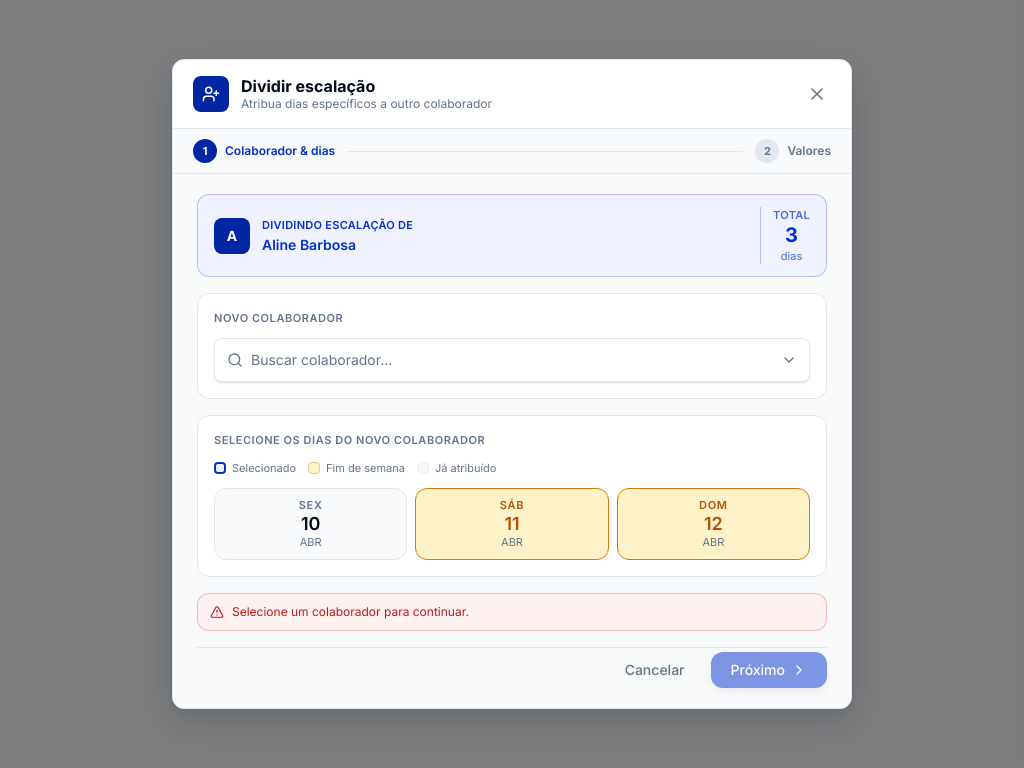
Test: Dividir escalação — passo 2 do novo colaborador › novo freela: diária do titular em todos os dias e alimentação zerada com o motivo
Click the button "Buscar colaborador…". click: click(322, 360)
box: [214,338,810,382]
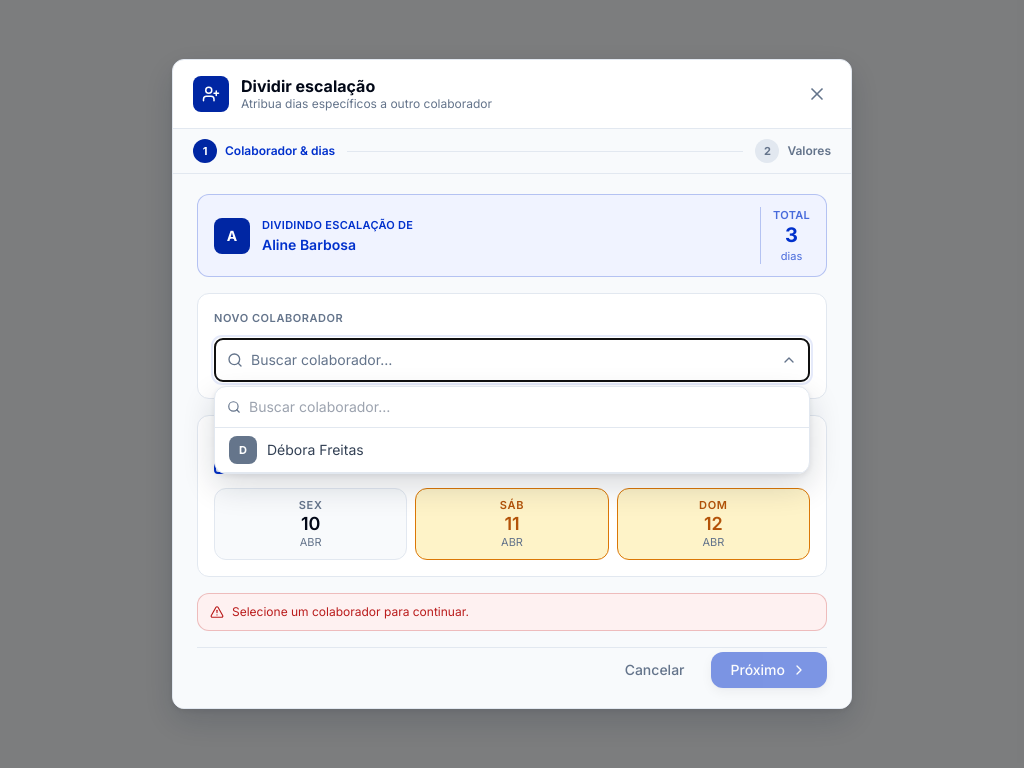
Press the mouse on the button "D Débora Freitas" at (315, 450), box [215,428,809,473]
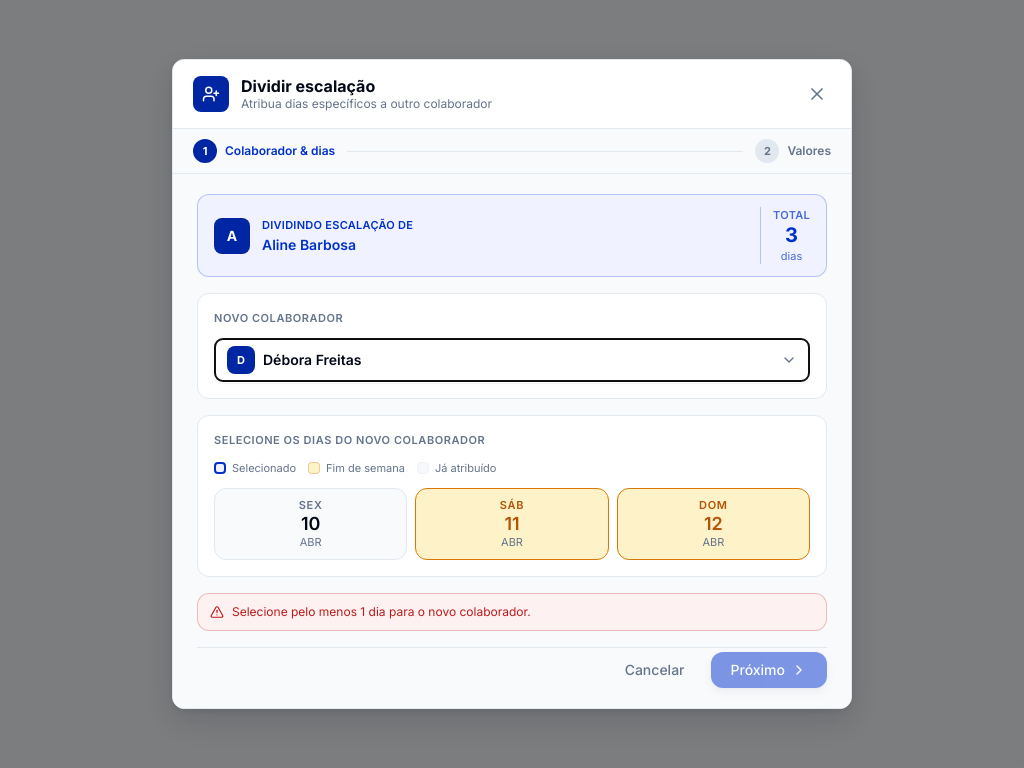
Click the button with aria-label "Sex 10/Abr". click: click(311, 524)
box: [214,488,407,560]
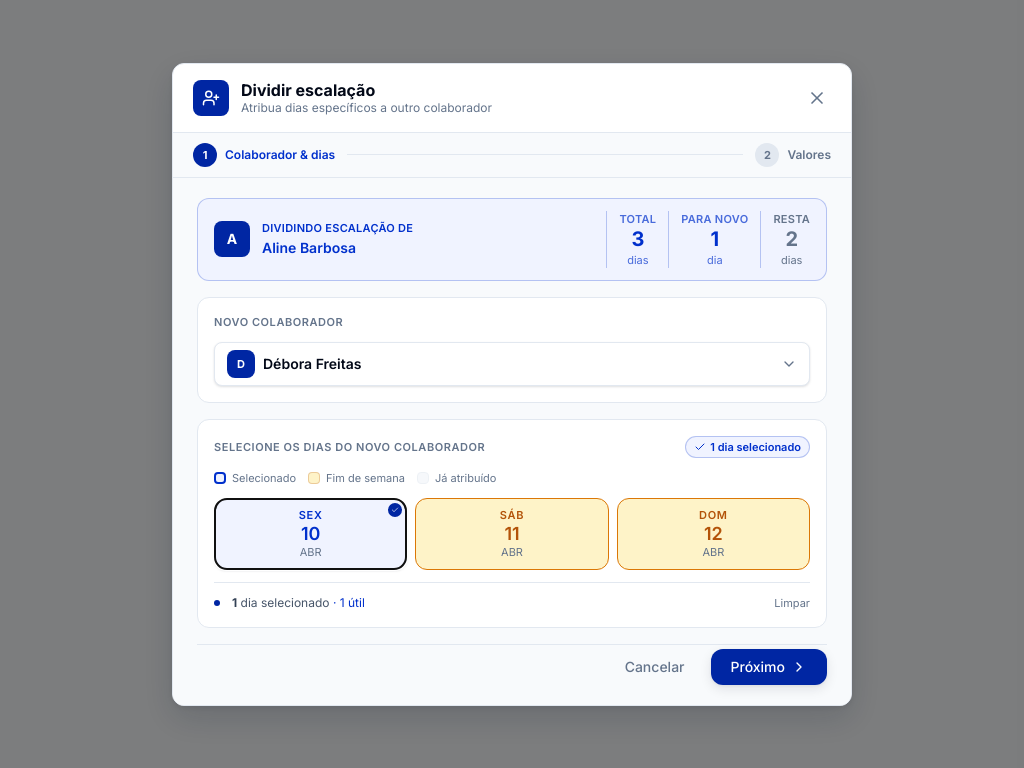
Click the button with aria-label "Sáb 11/Abr". click: click(512, 534)
box: [415,498,609,570]
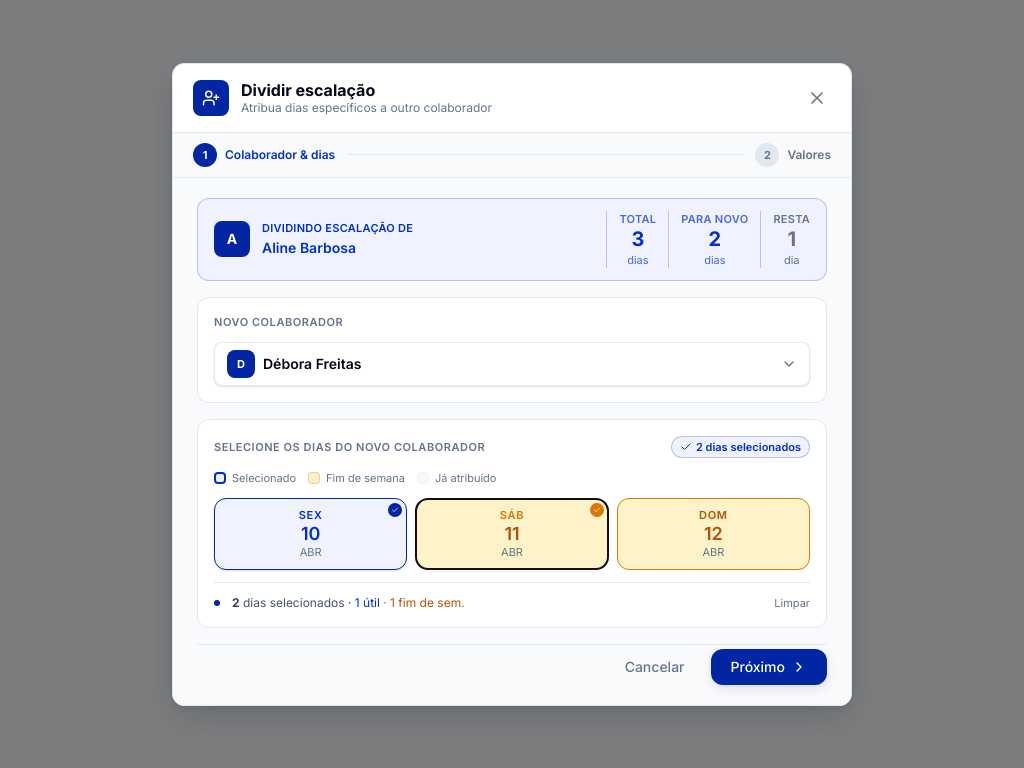
Click the button "Próximo". click: click(769, 666)
box: [710,648,827,684]
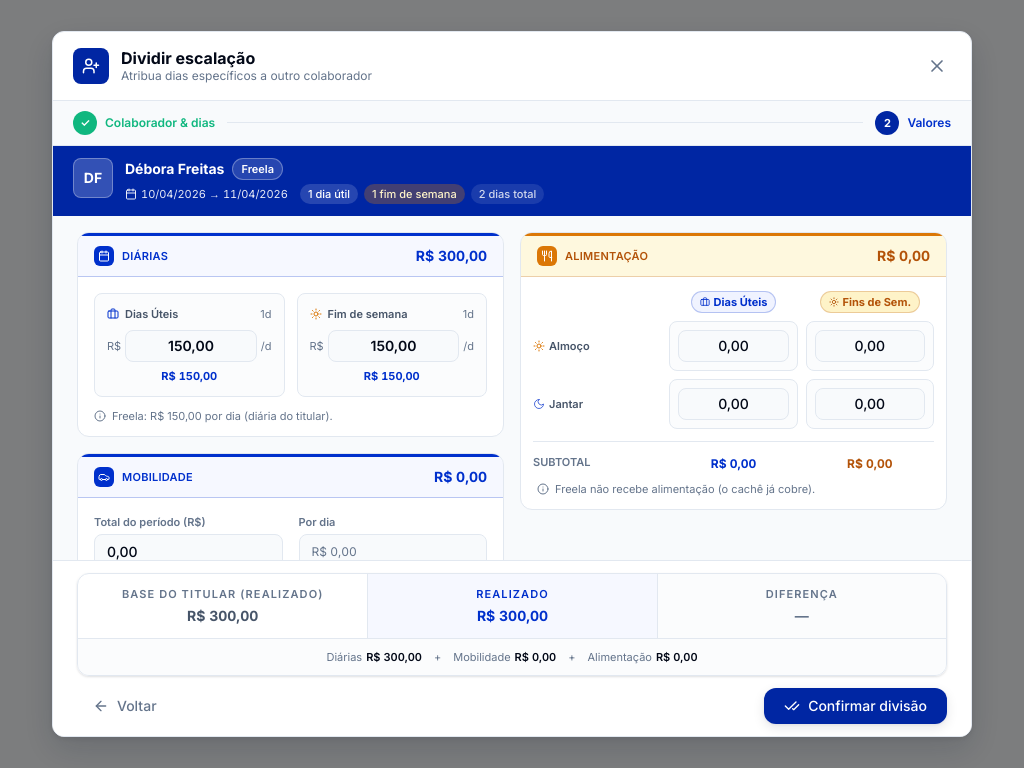
Expected: the field named "Almoço em dias úteis" holds "0,00", [678,330,789,362]
Expected: the element with test id "split-origem-alimentacao" shows "Freela não recebe alimentação", [555,482,815,496]
Expected: the field named "Diária por dia útil" holds "150,00", [125,330,257,362]
